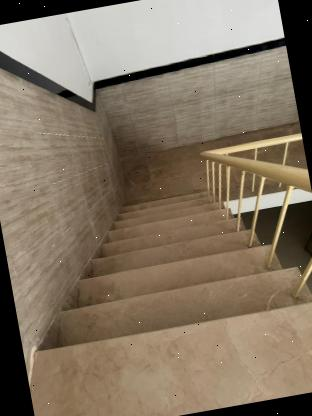stair: (39, 163, 309, 416)
